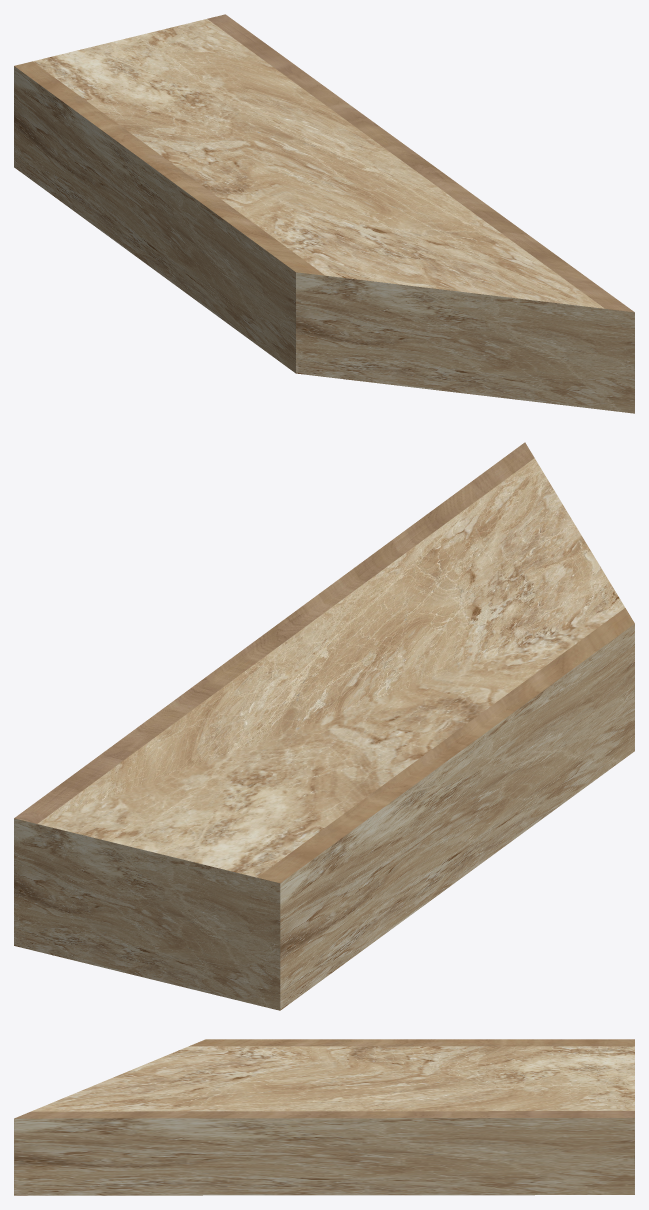
The model's file is bar1.FBX.
The picture shows the model from 3 angles, top to bottom: view 1: azimuth 30°, elevation 25°; view 2: azimuth 150°, elevation 25°; view 3: azimuth 270°, elevation 25°; orthographic projection. The views are drawn at different scales.
Visible parts, largest first — view 1: Box001; view 2: Box001; view 3: Box001.
Part boxes in pixels (<box>): Box001: <box>14,14,634,413</box>; Box001: <box>14,442,634,1010</box>; Box001: <box>14,1039,634,1195</box>.
Size of the model in its own units: 39.28 by 17.83 by 130.
Materials: 2 (2 with a texture image).
